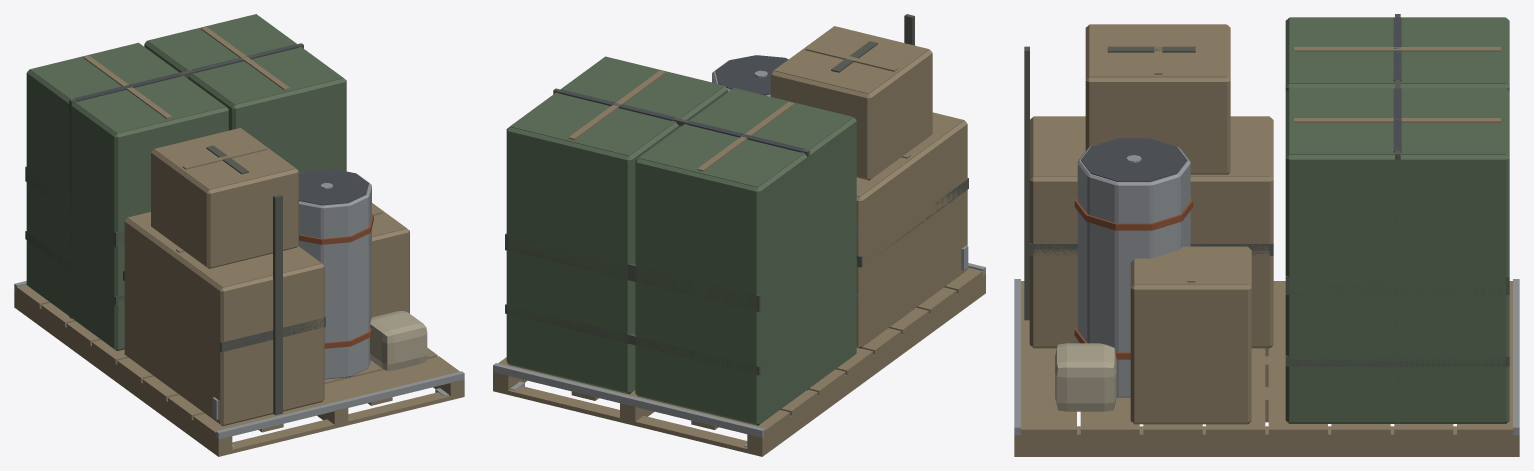
Rendered from cargo_stack_pallet_olive.glb.
3 views of the same model, side by side, from view 1: azimuth 30°, elevation 25°; view 2: azimuth 150°, elevation 25°; view 3: azimuth 270°, elevation 25° (orthographic). The views are drawn at different scales.
Parts seen in each view (by area): view 1: StackPallet_Body; view 2: StackPallet_Body; view 3: StackPallet_Body.
Boxes of the visible parts, box(x1,y1,x2,y2) form: StackPallet_Body: box(14, 14, 464, 456); StackPallet_Body: box(493, 14, 985, 456); StackPallet_Body: box(1014, 14, 1519, 456).
Bounding box in the file's own units: 1.6 × 1.5 × 2.3.
